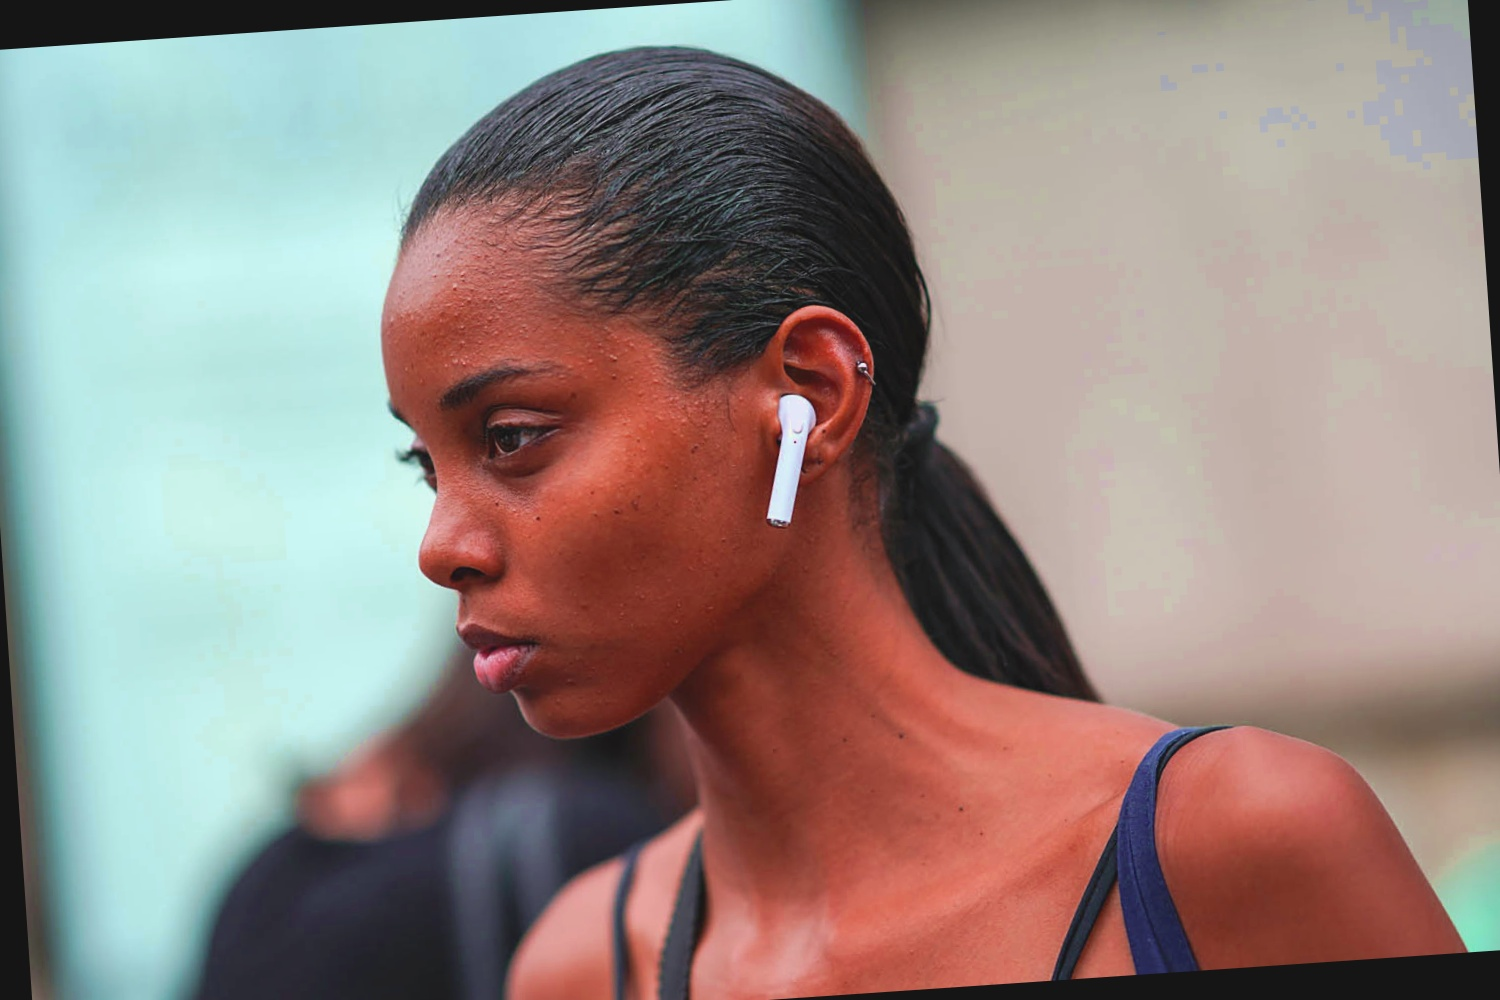earphone: (746, 301, 887, 530)
